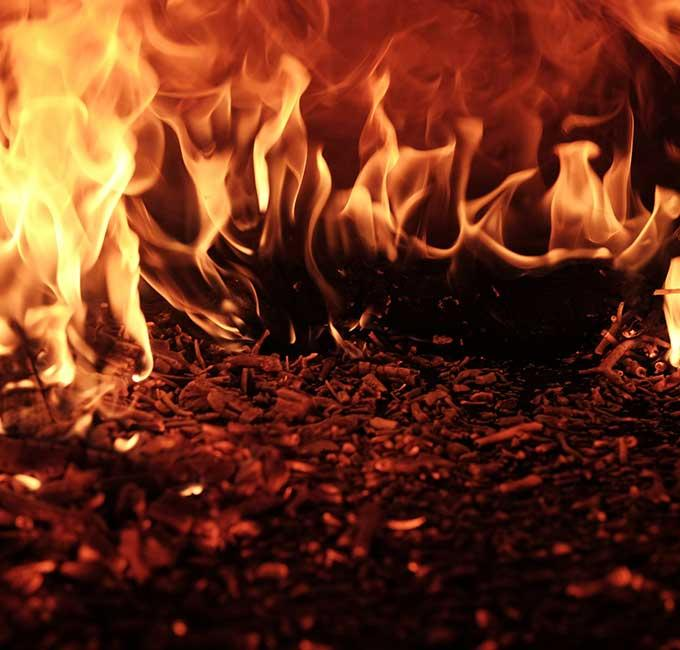Fire: (2, 2, 680, 398)
